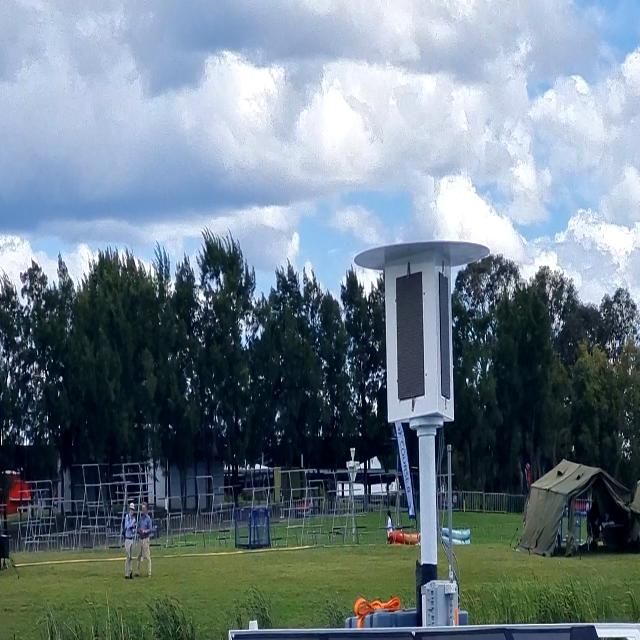led: (392, 264, 431, 408)
